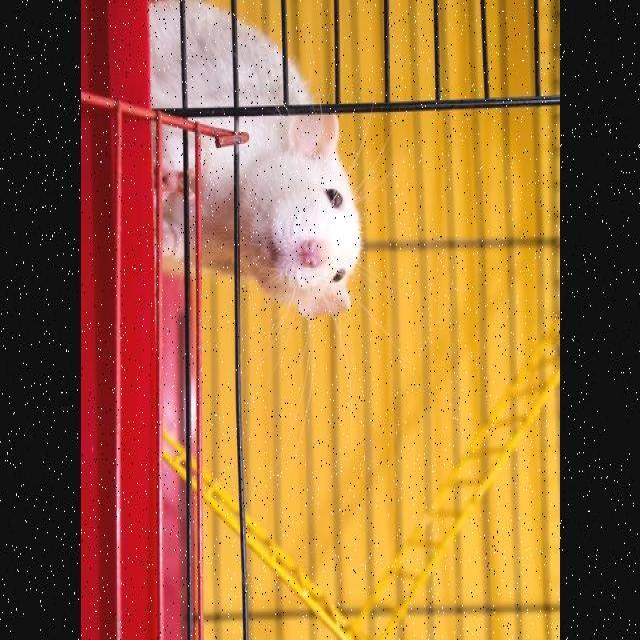rat: (148, 3, 361, 319)
